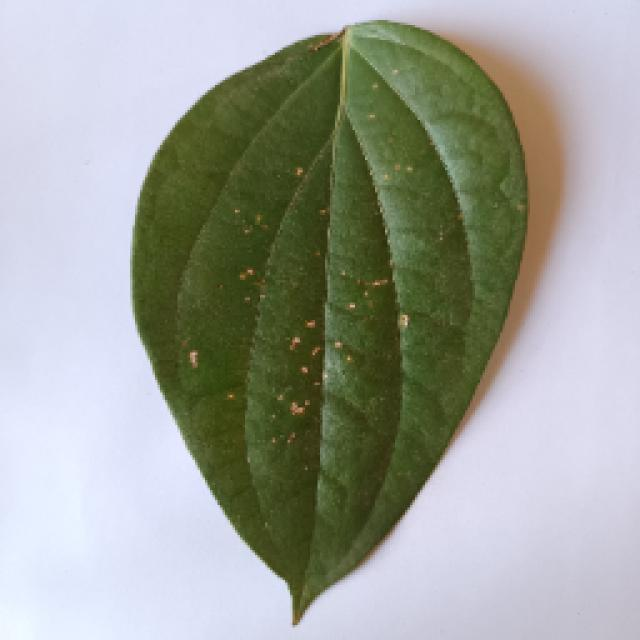pollu-disease: (130, 25, 522, 617)
